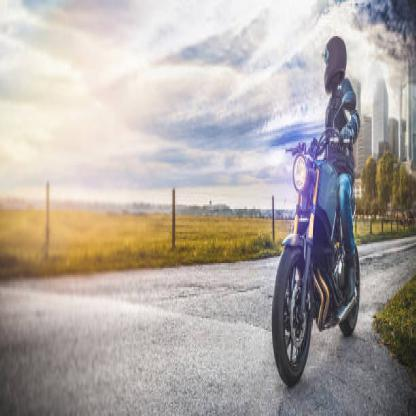Motorcycle: (270, 129, 363, 390)
